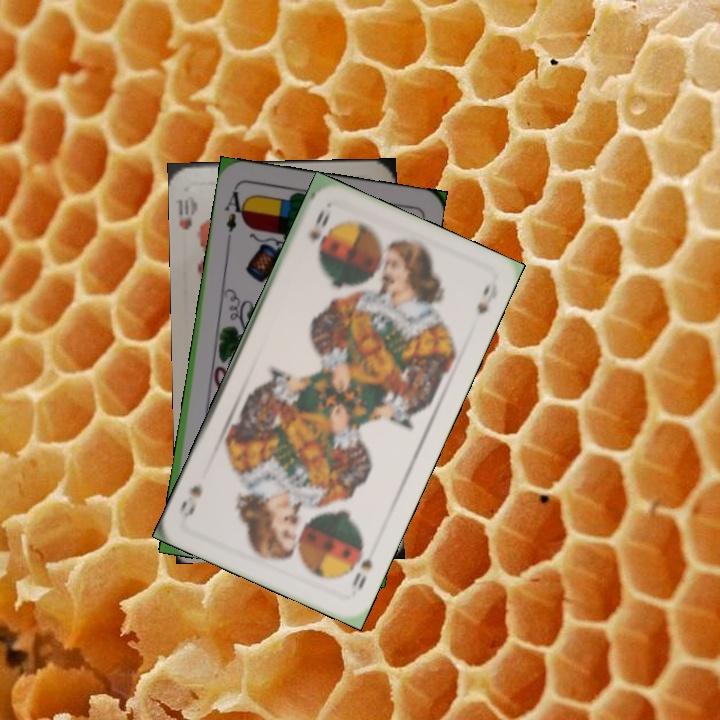EA: (221, 184, 249, 243)
H10: (175, 191, 200, 233)
SO: (347, 539, 375, 591), (304, 205, 334, 245)
